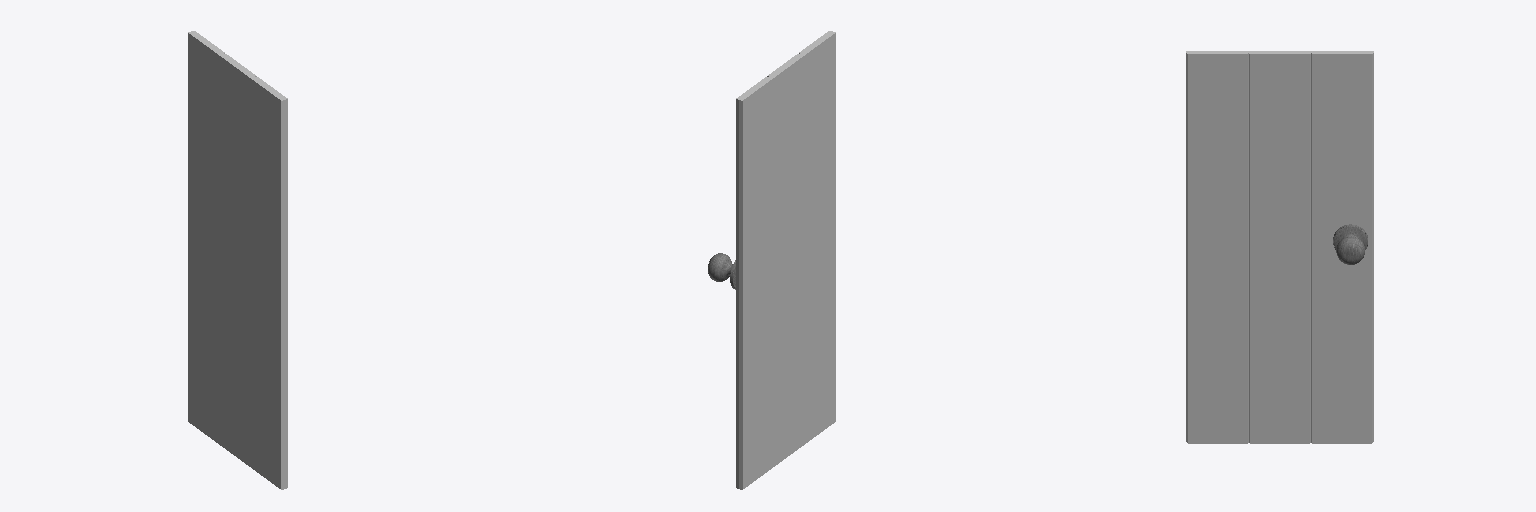
3 renders of one model, left to right at view 1: azimuth 30°, elevation 25°; view 2: azimuth 150°, elevation 25°; view 3: azimuth 270°, elevation 25°, orthographic.
Parts seen in each view (by area): view 1: Escape_door; view 2: Escape_door; view 3: Escape_door.
Part boxes in pixels (left/top/right/bottom): Escape_door: left=188, top=31, right=287, bottom=489; Escape_door: left=708, top=31, right=835, bottom=489; Escape_door: left=1186, top=51, right=1373, bottom=443.
Size of the model in its own units: 0.28 by 2.43 by 1.06.
2 materials, 1 textured.